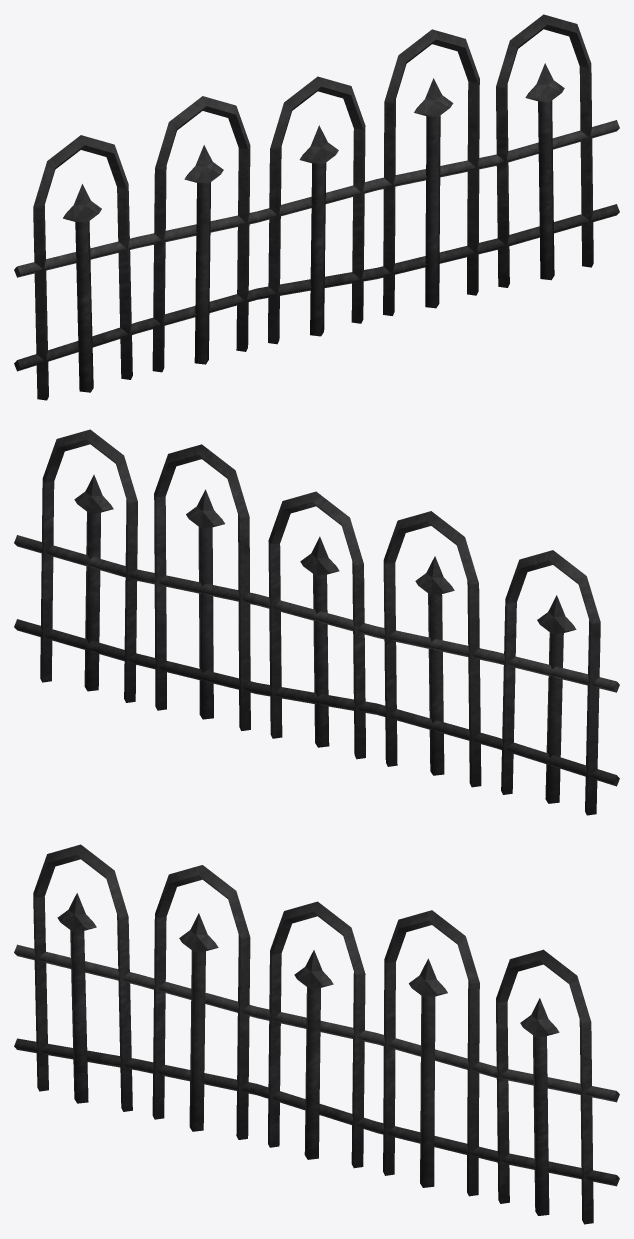
The model's file is Fence.fbx.
The picture shows the model from 3 angles, top to bottom: view 1: azimuth 30°, elevation 25°; view 2: azimuth 150°, elevation 25°; view 3: azimuth 330°, elevation 25°; orthographic projection.
Visible parts, largest first — view 1: Fence; view 2: Fence; view 3: Fence.
Boxes of the visible parts, bbox=[...] form: Fence: bbox=[14, 14, 619, 400]; Fence: bbox=[14, 429, 619, 815]; Fence: bbox=[14, 844, 619, 1224].
Bounding box in the file's own units: 141 × 61.3 × 4.25.
